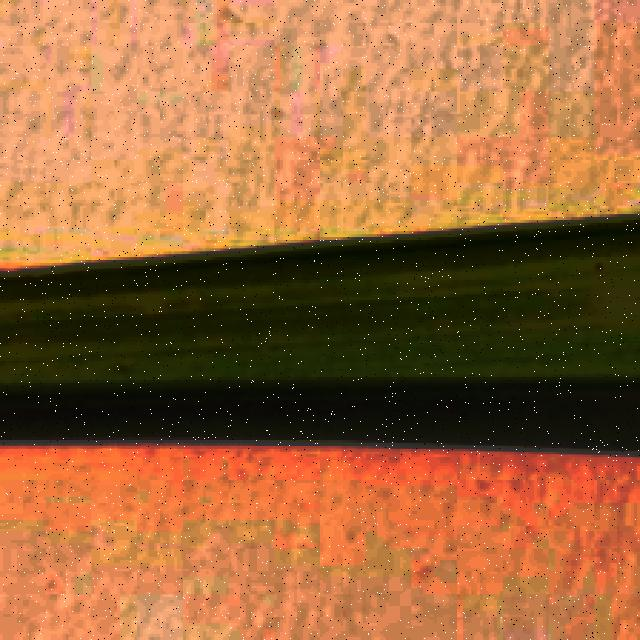unhealth: (570, 256, 640, 347)
